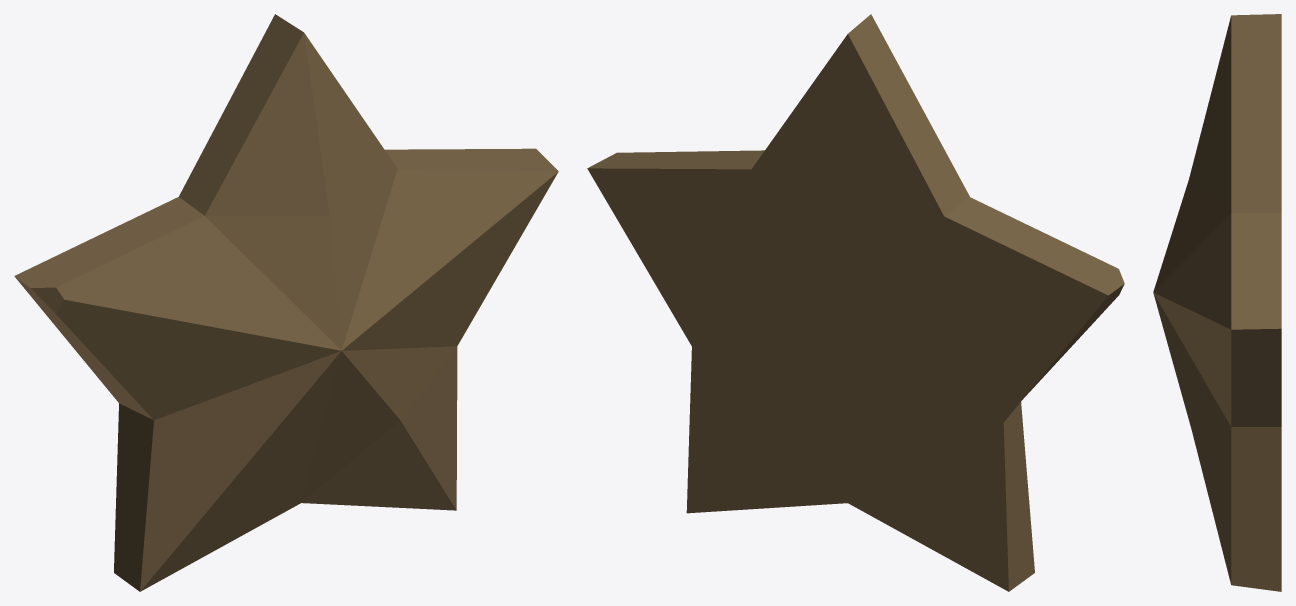
Rendered from SM_Sign_Police_04.fbx.
3 renders of one model, left to right at view 1: azimuth 30°, elevation 25°; view 2: azimuth 150°, elevation 25°; view 3: azimuth 270°, elevation 25°, orthographic. The views are drawn at different scales.
Parts seen in each view (by area): view 1: SM_Sign_Police_04; view 2: SM_Sign_Police_04; view 3: SM_Sign_Police_04.
Part boxes in pixels (x1,y1,x2,y2): SM_Sign_Police_04: [14, 14, 558, 591]; SM_Sign_Police_04: [587, 14, 1124, 591]; SM_Sign_Police_04: [1153, 14, 1281, 591].
Bounding box in the file's own units: 187 × 178 × 41.24.
